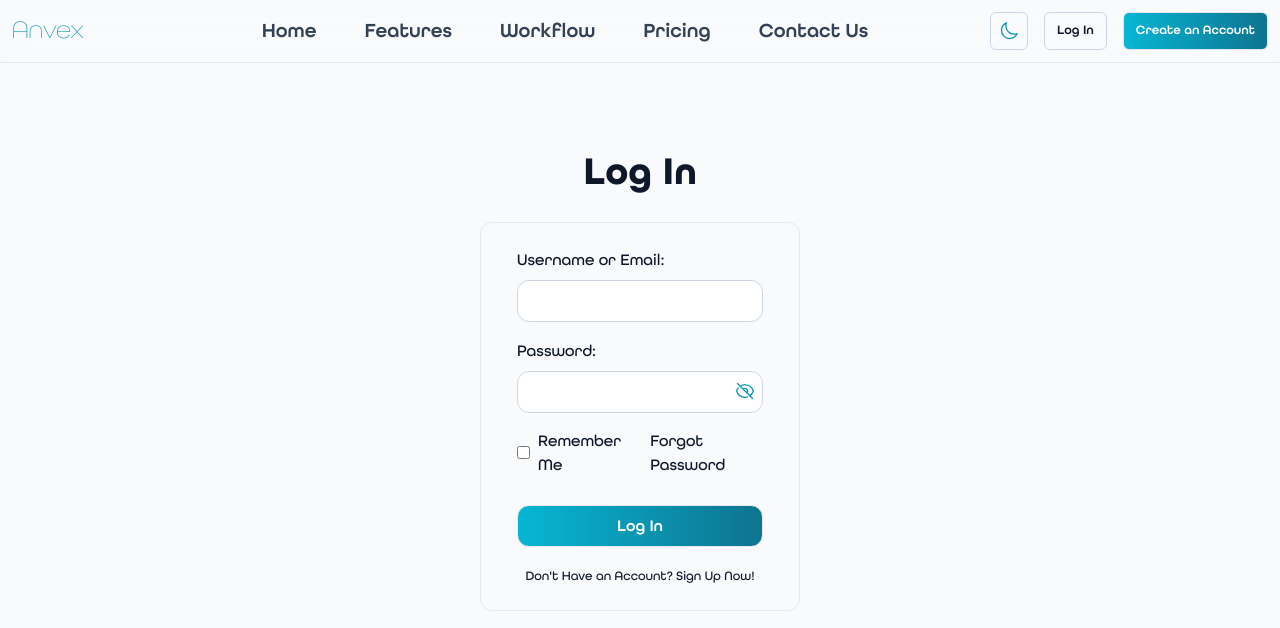
Test: validation › complains about the password alone when only the identifier is filled
This screenshot has width=1280, height=628.
Expected: the element with test id "route-login" is shown, [480,148,800,611]
Type "ada" into the field labelled "Username or Email:".
click(640, 301); type("ada")  # box [517,280,763,322]
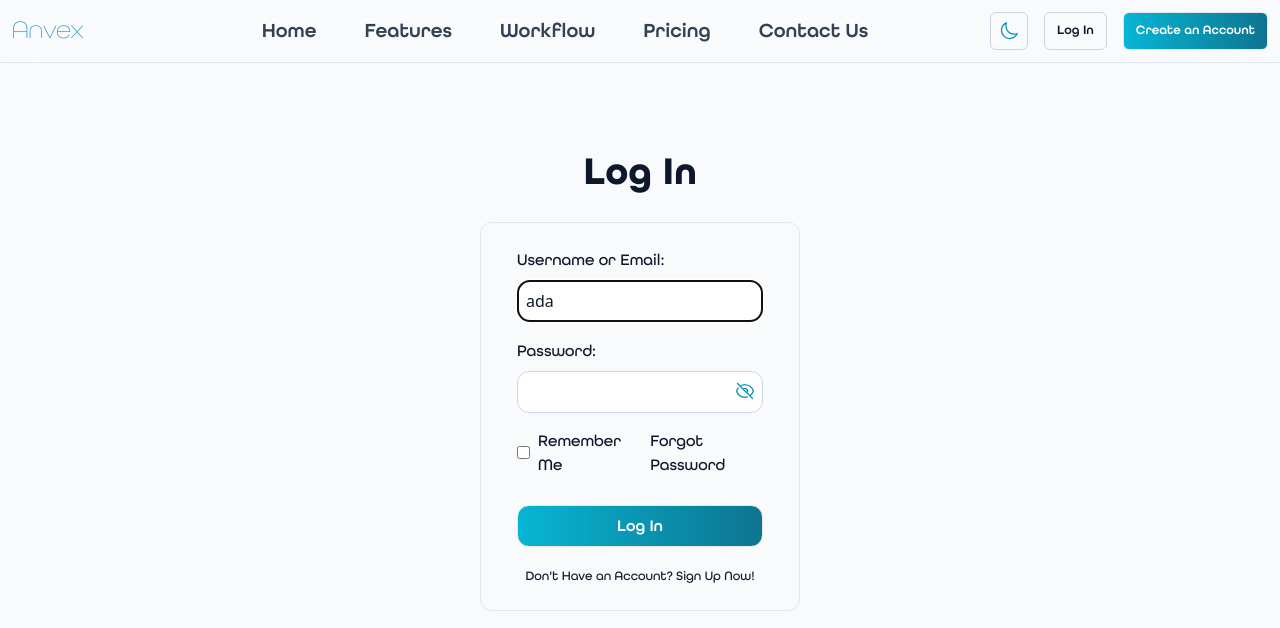
Click the button "Log In".
click(640, 526)  # box [517,505,763,547]
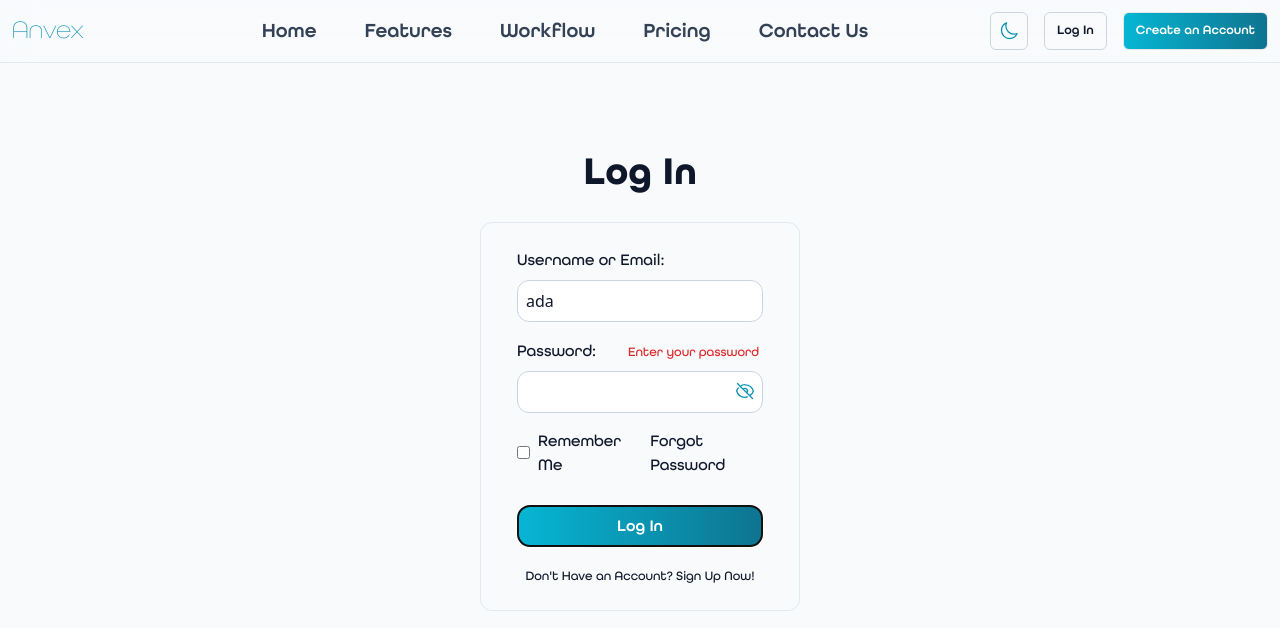
Result: the message with test id "login-password-error" reads "Enter your password" at [628,344,759,360]
